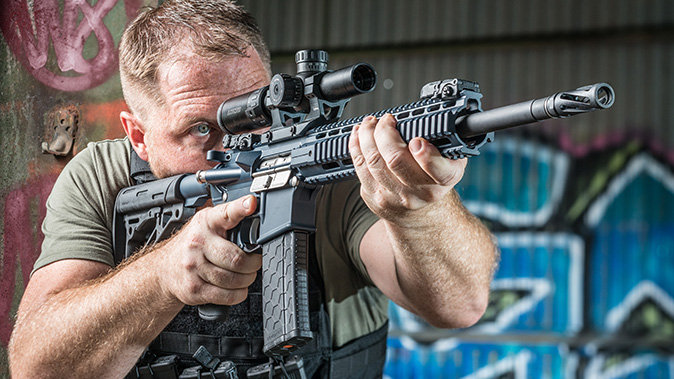Rifle: (105, 48, 619, 359)
